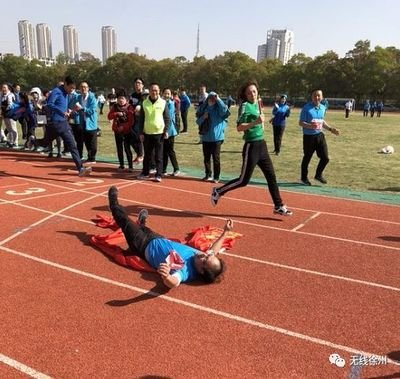10+: (1, 61, 391, 218)
down: (98, 185, 249, 290)
